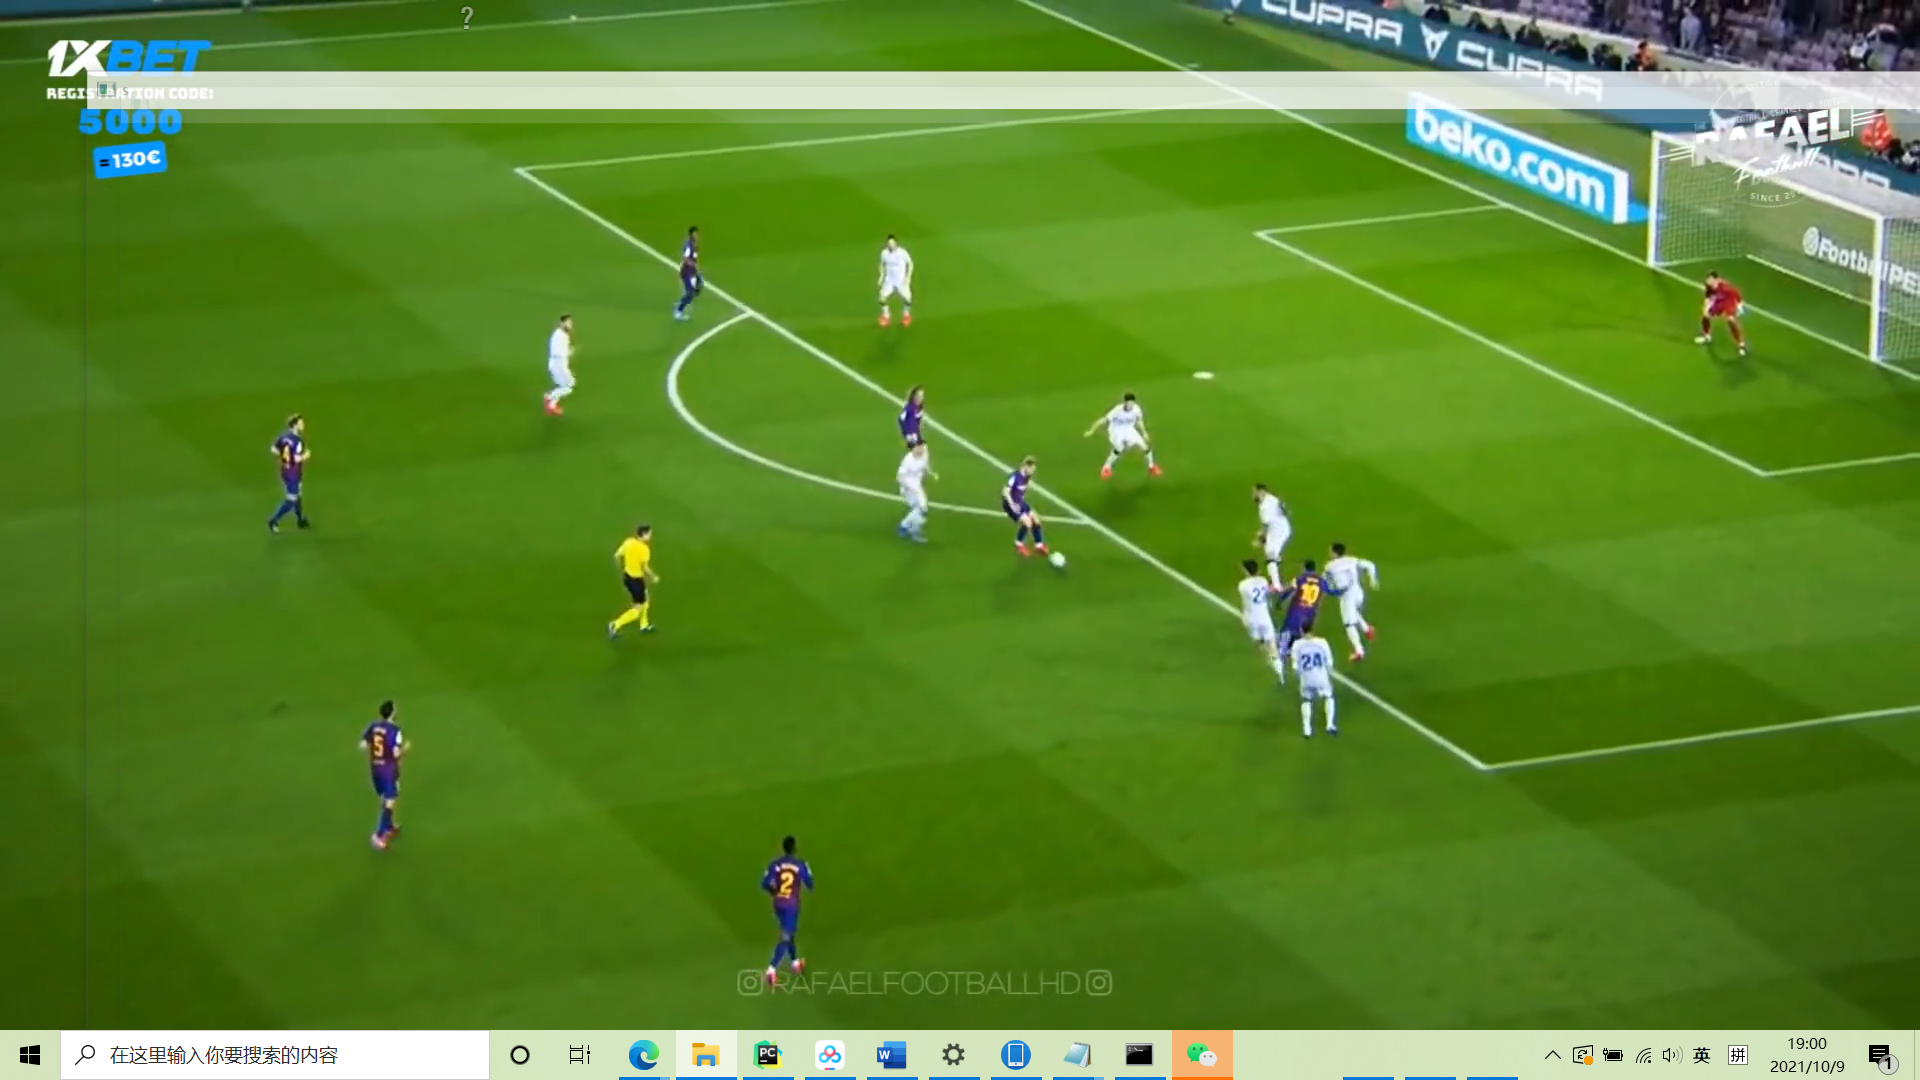ft: (1046, 553, 1065, 570)
